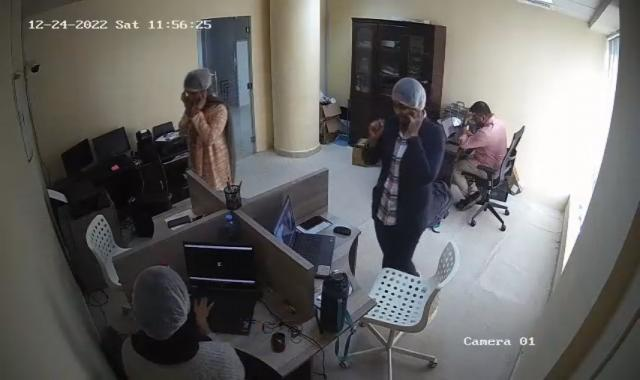hairnet: (130, 266, 191, 337), (392, 77, 429, 109), (183, 68, 214, 92)
no_hairnet: (468, 101, 494, 126)
